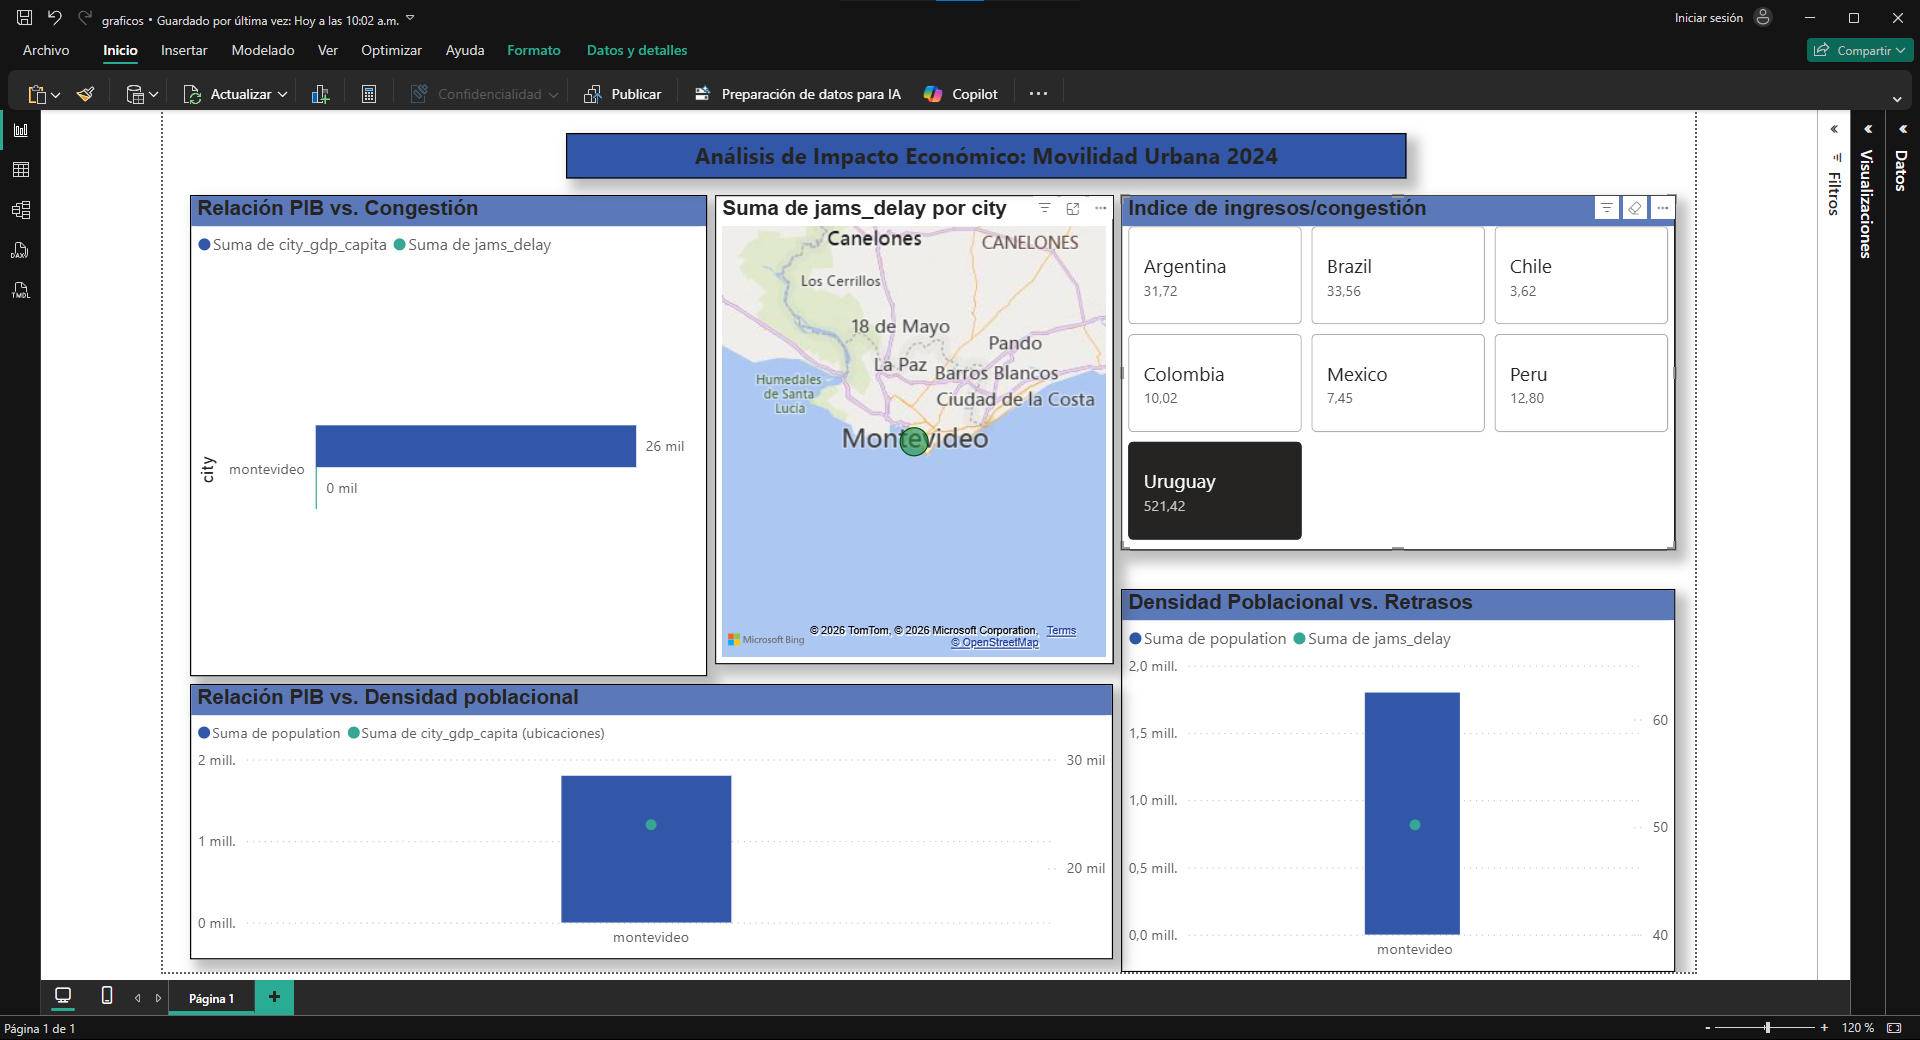

The page's visual inventory and layout, read from the dashboard file:
{"tool":"powerbi","page":{"name":"Página 1","canvas":[1280,720],"ordinal":0},"visuals":[{"type":"clusteredBarChart","title":"Relación PIB vs. Congestión","fields":{"Category":["movilidad_economica_final.city"],"Y":["Sum(movilidad_economica_final.city_gdp_capita)","Sum(movilidad_economica_final.jams_delay)"]},"box":[22.4,70.7,432.1,401.9],"z":0},{"type":"lineStackedColumnComboChart","title":"Densidad Poblacional vs. Retrasos","fields":{"Category":["movilidad_economica_final.city"],"Y":["Sum(movilidad_economica_final.population)"],"Y2":["Sum(movilidad_economica_final.jams_delay)"]},"box":[800.4,400.2,463.2,320],"z":1000},{"type":"lineStackedColumnComboChart","title":"Relación PIB vs. Densidad poblacional","fields":{"Category":["movilidad_economica_final.city"],"Y2":["Sum(movilidad_economica_final.city_gdp_capita (ubicaciones))"],"Y":["Sum(movilidad_economica_final.population)"]},"box":[22.8,479.8,771.3,230.3],"z":2000},{"type":"advancedSlicerVisual","title":"Indice de ingresos/congestión","fields":{"Values":["movilidad_economica_final.country"],"Label":["movilidad_economica_final.indice_eficiencia"]},"box":[800.2,70.9,463.1,296.8],"z":3000},{"type":"map","fields":{"Category":["movilidad_economica_final.city"],"Size":["Sum(movilidad_economica_final.jams_delay)"]},"box":[461.4,70.9,332.7,392.2],"z":4000},{"type":"textbox","title":"Análisis de Impacto Económico: Movilidad Urbana 2024","box":[336.6,19.2,702.5,37.6],"z":5000}]}

Visuals, with their boxes on the page's 1280x720 design canvas (x1, y1, x2, y2). These are canvas units, not pixel positions in the 1920x1040 screenshot, which may show the page scaled, cropped or inside an application window:
"Relación PIB vs. Congestión" clusteredBarChart: x1=22, y1=71, x2=454, y2=473
"Densidad Poblacional vs. Retrasos" lineStackedColumnComboChart: x1=800, y1=400, x2=1264, y2=720
"Relación PIB vs. Densidad poblacional" lineStackedColumnComboChart: x1=23, y1=480, x2=794, y2=710
"Indice de ingresos/congestión" advancedSlicerVisual: x1=800, y1=71, x2=1263, y2=368
map - movilidad_economica_final.city x Sum(movilidad_economica_final.jams_delay): x1=461, y1=71, x2=794, y2=463
"Análisis de Impacto Económico: Movilidad Urbana 2024" textbox: x1=337, y1=19, x2=1039, y2=57
